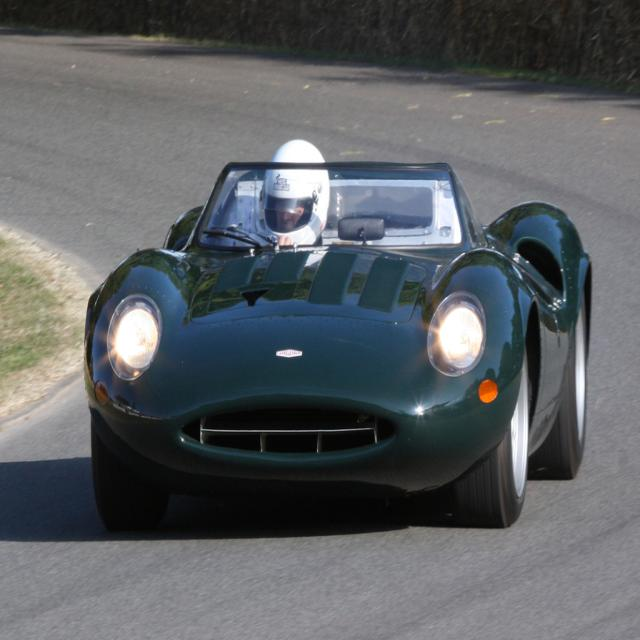car: (80, 158, 594, 530)
